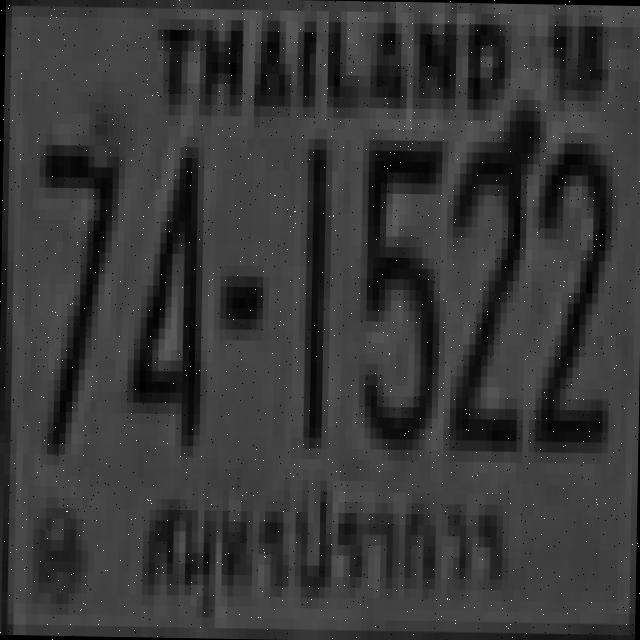1: (296, 138, 326, 448)
2: (446, 120, 524, 441), (532, 137, 610, 448)
4: (126, 141, 204, 441)
5: (358, 134, 436, 445)
7: (34, 138, 119, 450)
SamutPrakan: (134, 475, 511, 627)
